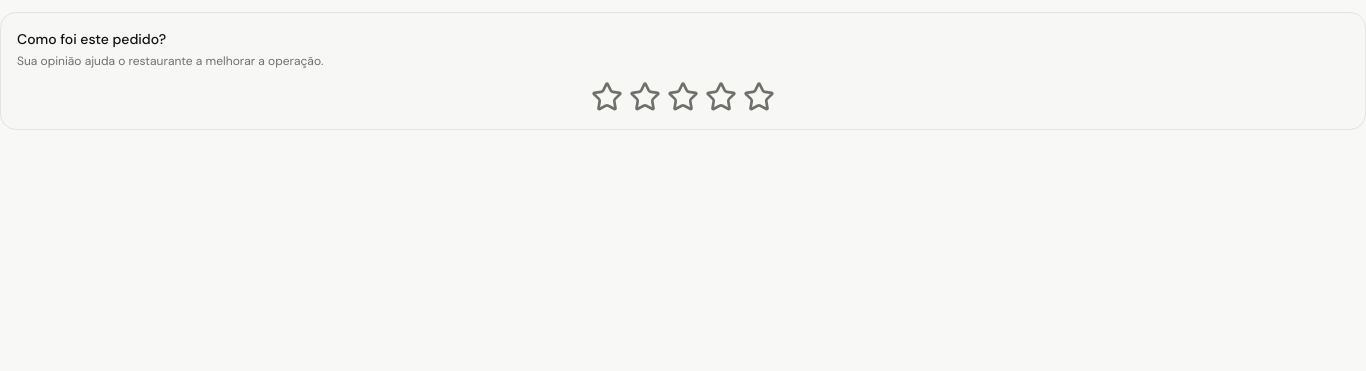
Test: order feedback rules › shows the inline prompt, expands on star selection, and confirms submission
Expected: the text "Como foi este pedido?" is shown, [17,30,166,48]
Expected: the text "Sua opinião ajuda o restaurante a melhorar a operação." is shown, [17,53,323,69]
What coordinates should you click on to do the following:
click the button named "4 estrelas"
I would click on:
 (721, 97)
Its box is [705,81,737,113].
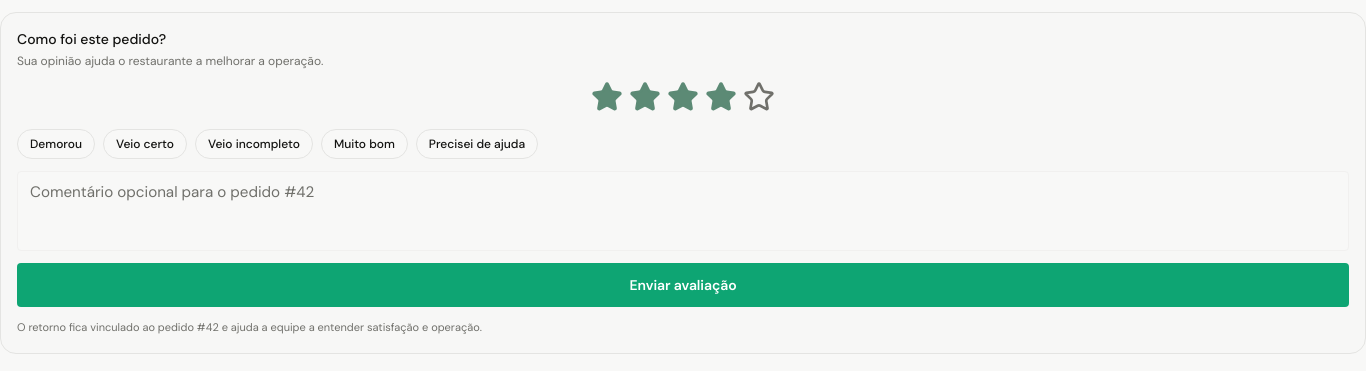
Result: the button "Demorou" is shown at [17,129,95,159]
Result: the text box with placeholder "Comentário opcional para o pedido #42" is shown at [17,171,1349,251]
Result: the button "Enviar avaliação" is shown
What coordinates should you click on to do the following:
click the button "Enviar avaliação"
I would click on:
 (683, 285)
Its box is [17,263,1349,307].
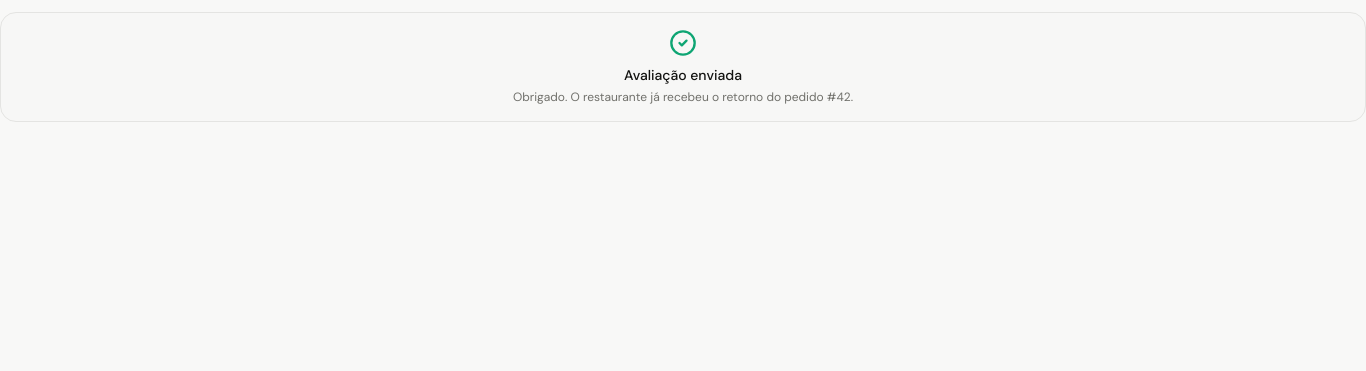
Result: the text "Avaliação enviada" is shown at [624,66,742,84]
